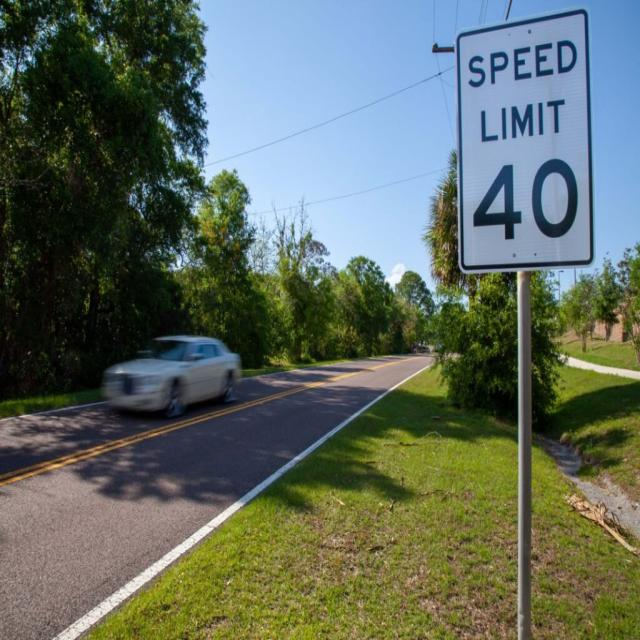Speed Limit Signs: (453, 8, 596, 276)
